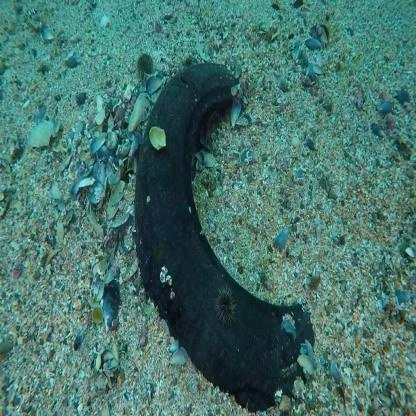tire: (129, 85, 306, 403)
